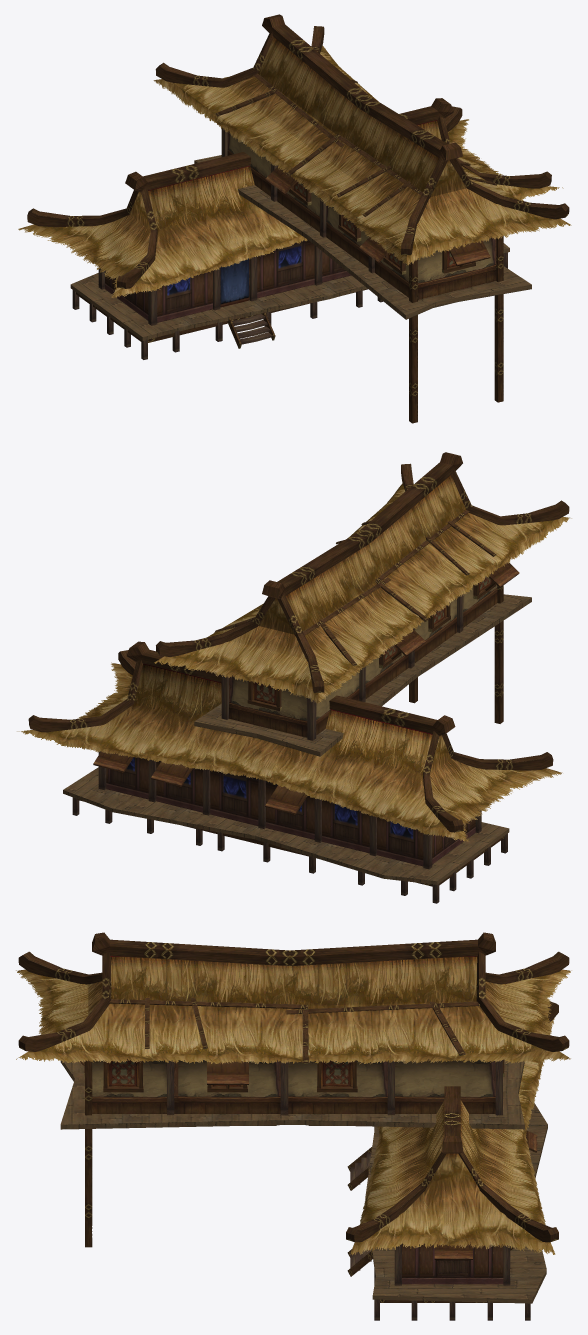
Rendered from environment_Building_diaojiaolou_001_d.FBX.
3 renders of one model, top to bottom at view 1: azimuth 30°, elevation 25°; view 2: azimuth 150°, elevation 25°; view 3: azimuth 270°, elevation 25°, orthographic. The views are drawn at different scales.
Parts seen in each view (by area): view 1: environment_Building_diaojiaolou_001_d02, environment_Building_diaojiaolou_001_d04, environment_Building_diaojiaolou_001_d05, environment_Building_diaojiaolou_001_d03, environment_Building_diaojiaolou_001_d01, environment_Building_diaojiaolou_001_d07, environment_Building_diaojiaolou_001_d06; view 2: environment_Building_diaojiaolou_001_d02, environment_Building_diaojiaolou_001_d04, environment_Building_diaojiaolou_001_d05, environment_Building_diaojiaolou_001_d01, environment_Building_diaojiaolou_001_d03, environment_Building_diaojiaolou_001_d06; view 3: environment_Building_diaojiaolou_001_d02, environment_Building_diaojiaolou_001_d04, environment_Building_diaojiaolou_001_d03, environment_Building_diaojiaolou_001_d05, environment_Building_diaojiaolou_001_d01, environment_Building_diaojiaolou_001_d06.
Boxes of the visible parts, box(x1,y1,x2,y2) form: environment_Building_diaojiaolou_001_d02: box(18, 37, 571, 297); environment_Building_diaojiaolou_001_d04: box(27, 14, 569, 423); environment_Building_diaojiaolou_001_d05: box(70, 155, 531, 340); environment_Building_diaojiaolou_001_d03: box(227, 130, 496, 299); environment_Building_diaojiaolou_001_d01: box(105, 239, 351, 322); environment_Building_diaojiaolou_001_d07: box(220, 258, 249, 307); environment_Building_diaojiaolou_001_d06: box(293, 182, 456, 267); environment_Building_diaojiaolou_001_d02: box(17, 475, 571, 841); environment_Building_diaojiaolou_001_d04: box(28, 452, 569, 903); environment_Building_diaojiaolou_001_d05: box(63, 594, 531, 884); environment_Building_diaojiaolou_001_d01: box(106, 757, 475, 866); environment_Building_diaojiaolou_001_d03: box(93, 562, 519, 815); environment_Building_diaojiaolou_001_d06: box(252, 576, 491, 705); environment_Building_diaojiaolou_001_d02: box(16, 956, 571, 1255); environment_Building_diaojiaolou_001_d04: box(18, 932, 569, 1320); environment_Building_diaojiaolou_001_d03: box(80, 1059, 537, 1260); environment_Building_diaojiaolou_001_d05: box(60, 1060, 547, 1303); environment_Building_diaojiaolou_001_d01: box(402, 1243, 503, 1284); environment_Building_diaojiaolou_001_d06: box(107, 1059, 352, 1086).
Size of the model in its own units: 3415 by 3303 by 1879.
